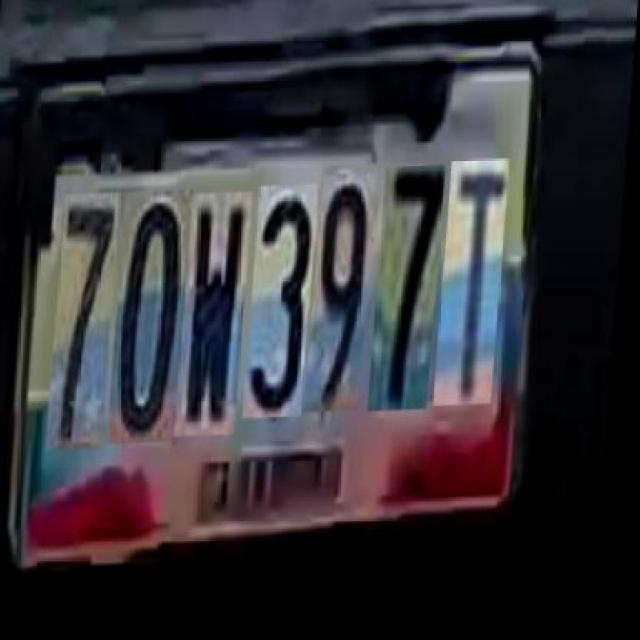3: (249, 187, 322, 421)
7: (53, 194, 124, 451), (376, 169, 449, 414)
9: (311, 176, 378, 415)
o: (114, 192, 197, 446)
t: (440, 162, 512, 410)
w: (182, 195, 256, 438)
